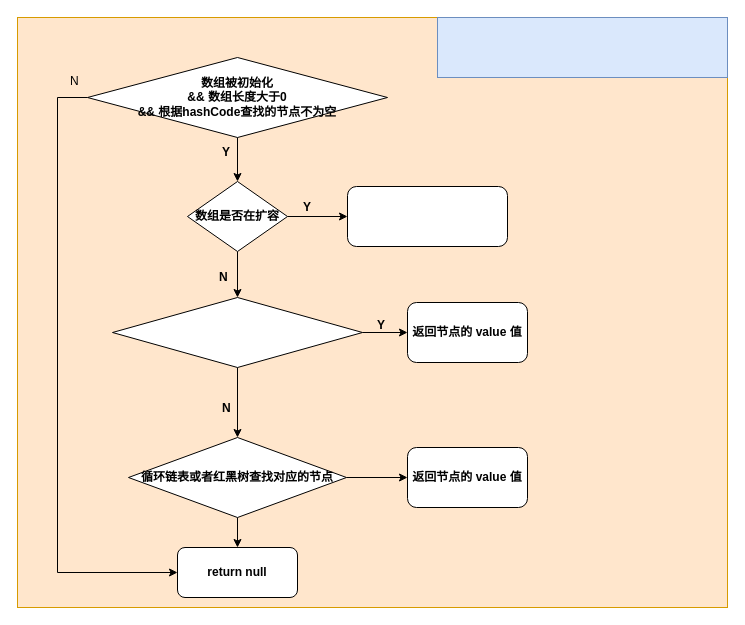
Image size: 745x625. Some labels were removed from this diagram. The centre of each missing label's shape, as x and y in pixels:
"ConcurrentHashMap.get()方法流程图" belongs at (582,47).
"根据计算出来的 hashCode 寻址找到节点" belongs at (237,332).
"调用ForwardingNode的find方法来定位到nextTable，返回节点的 value 值" belongs at (427,216).
